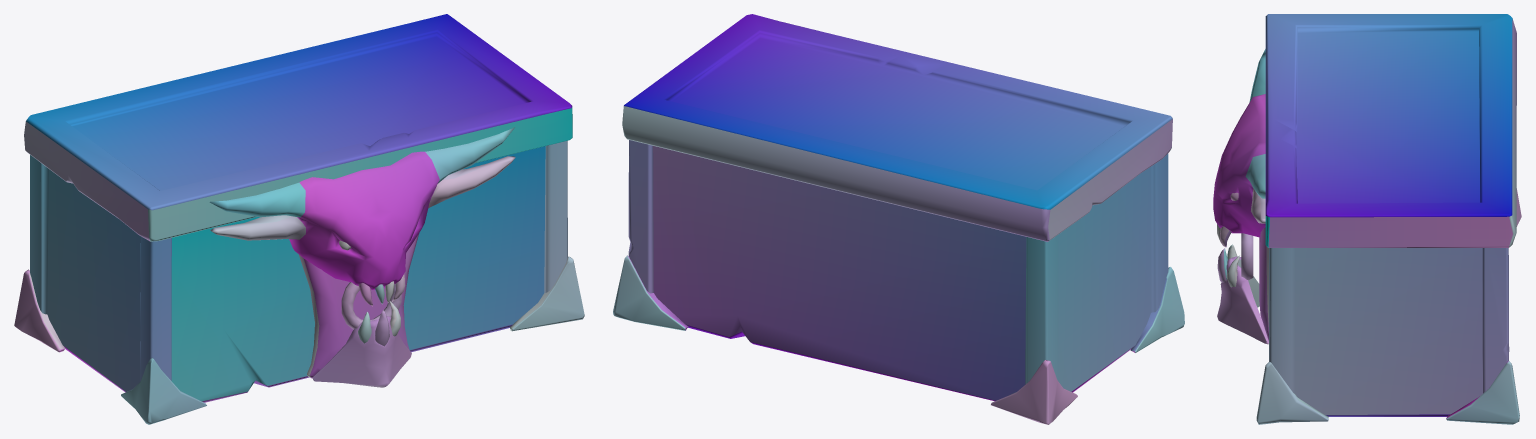
3 views of the same model, side by side, from view 1: azimuth 30°, elevation 25°; view 2: azimuth 150°, elevation 25°; view 3: azimuth 270°, elevation 25° (orthographic). The views are drawn at different scales.
Visible parts, largest first — view 1: SM_Battlestaff_Maple_2H_01_LOD0; view 2: SM_Battlestaff_Maple_2H_01_LOD0; view 3: SM_Battlestaff_Maple_2H_01_LOD0.
Boxes of the visible parts, x1=… form: SM_Battlestaff_Maple_2H_01_LOD0: x1=14, y1=14, x2=584, y2=424; SM_Battlestaff_Maple_2H_01_LOD0: x1=613, y1=14, x2=1184, y2=424; SM_Battlestaff_Maple_2H_01_LOD0: x1=1213, y1=14, x2=1521, y2=424.
Size of the model in its own units: 1.07 by 0.5025 by 0.6663.
